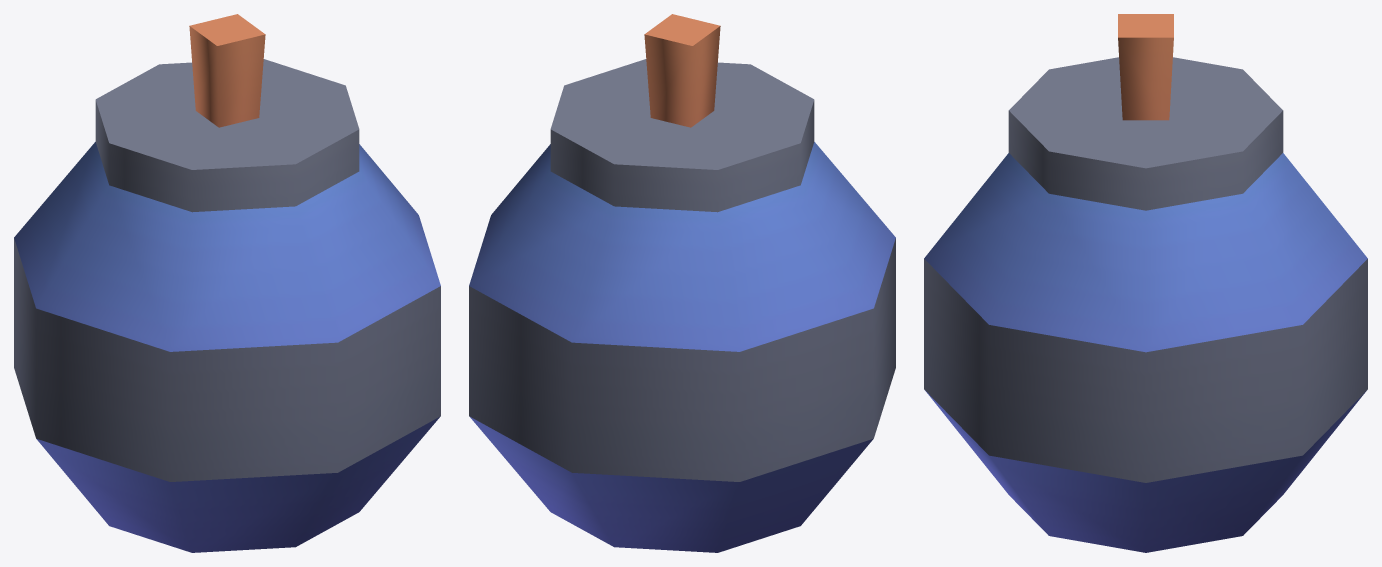
File: kenney-platformer-bomb.glb
3 views of the same model, side by side, from view 1: azimuth 30°, elevation 25°; view 2: azimuth 150°, elevation 25°; view 3: azimuth 270°, elevation 25° (orthographic).
Visible parts, largest first — view 1: bomb; view 2: bomb; view 3: bomb.
Boxes of the visible parts, x1=… form: bomb: x1=14, y1=14, x2=440, y2=552; bomb: x1=469, y1=14, x2=895, y2=552; bomb: x1=924, y1=14, x2=1367, y2=552.
Size of the model in its own units: 0.3424 by 0.4336 by 0.3424.
Materials: 1 (1 with a texture image).
